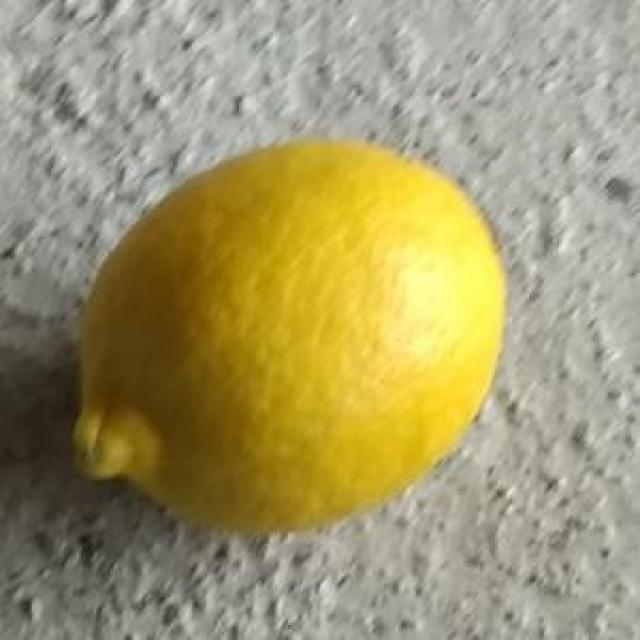lemon: (68, 144, 507, 534)
